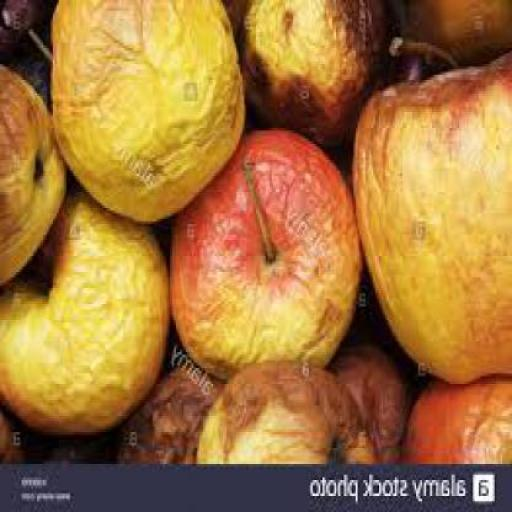biodegradable: (1, 0, 511, 464), (356, 32, 510, 379), (170, 126, 363, 379), (51, 0, 246, 219), (2, 184, 174, 422), (241, 0, 398, 138), (200, 360, 382, 458), (2, 58, 71, 282), (328, 334, 418, 462), (121, 362, 221, 458), (404, 376, 510, 460), (406, 0, 510, 60), (2, 0, 48, 62), (41, 427, 121, 462), (384, 40, 438, 86), (2, 400, 37, 459)
